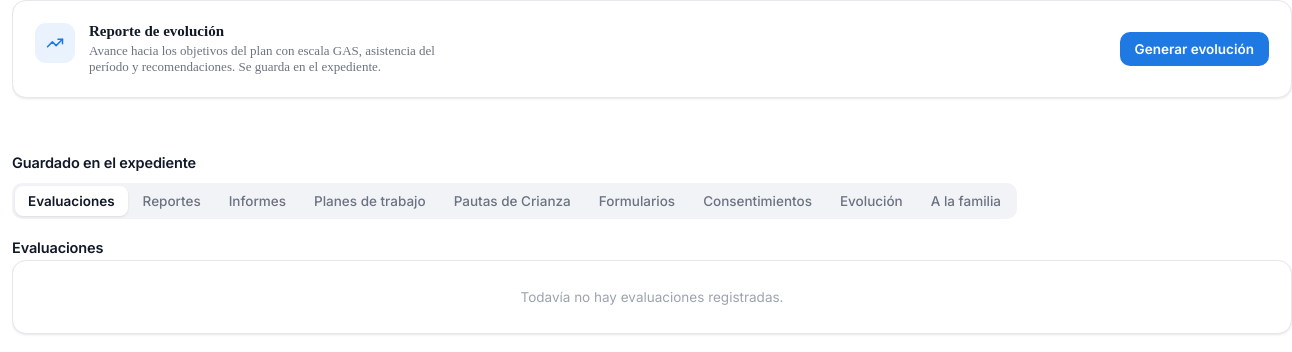
lo generado aparece junto a lo guardado › sin nada generado lo dice en vez de quedarse en blanco
The width and height of the screenshot is (1292, 352).
Click the button "Evolución" at (871, 201), box [827,186,916,216]
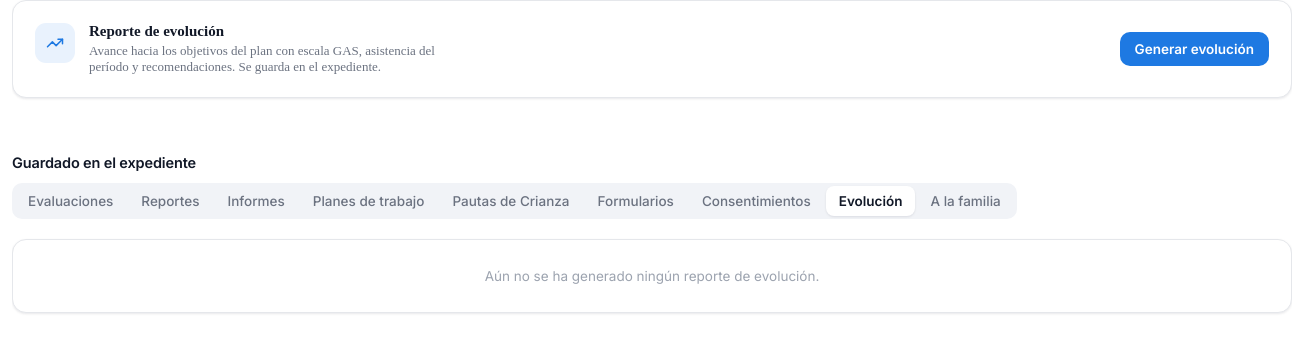
Result: the text "Aún no se ha generado" is shown at [485,268,819,284]
